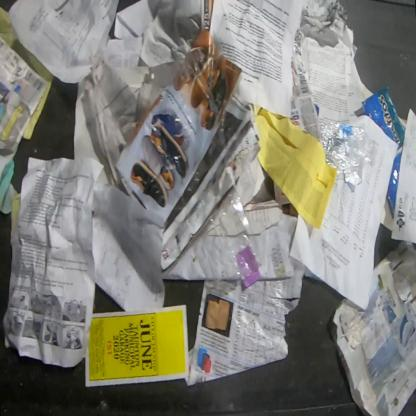soft_plastic: (190, 185, 262, 302), (361, 85, 406, 221), (318, 121, 379, 174)
